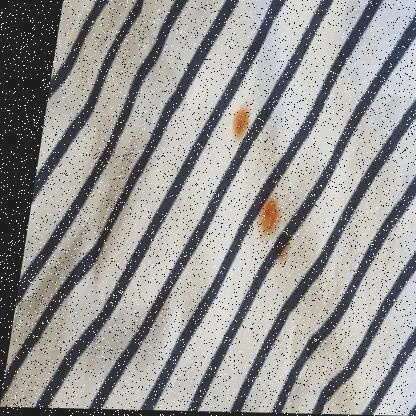kimchi: (256, 199, 285, 239), (230, 103, 249, 139), (277, 250, 295, 265)
